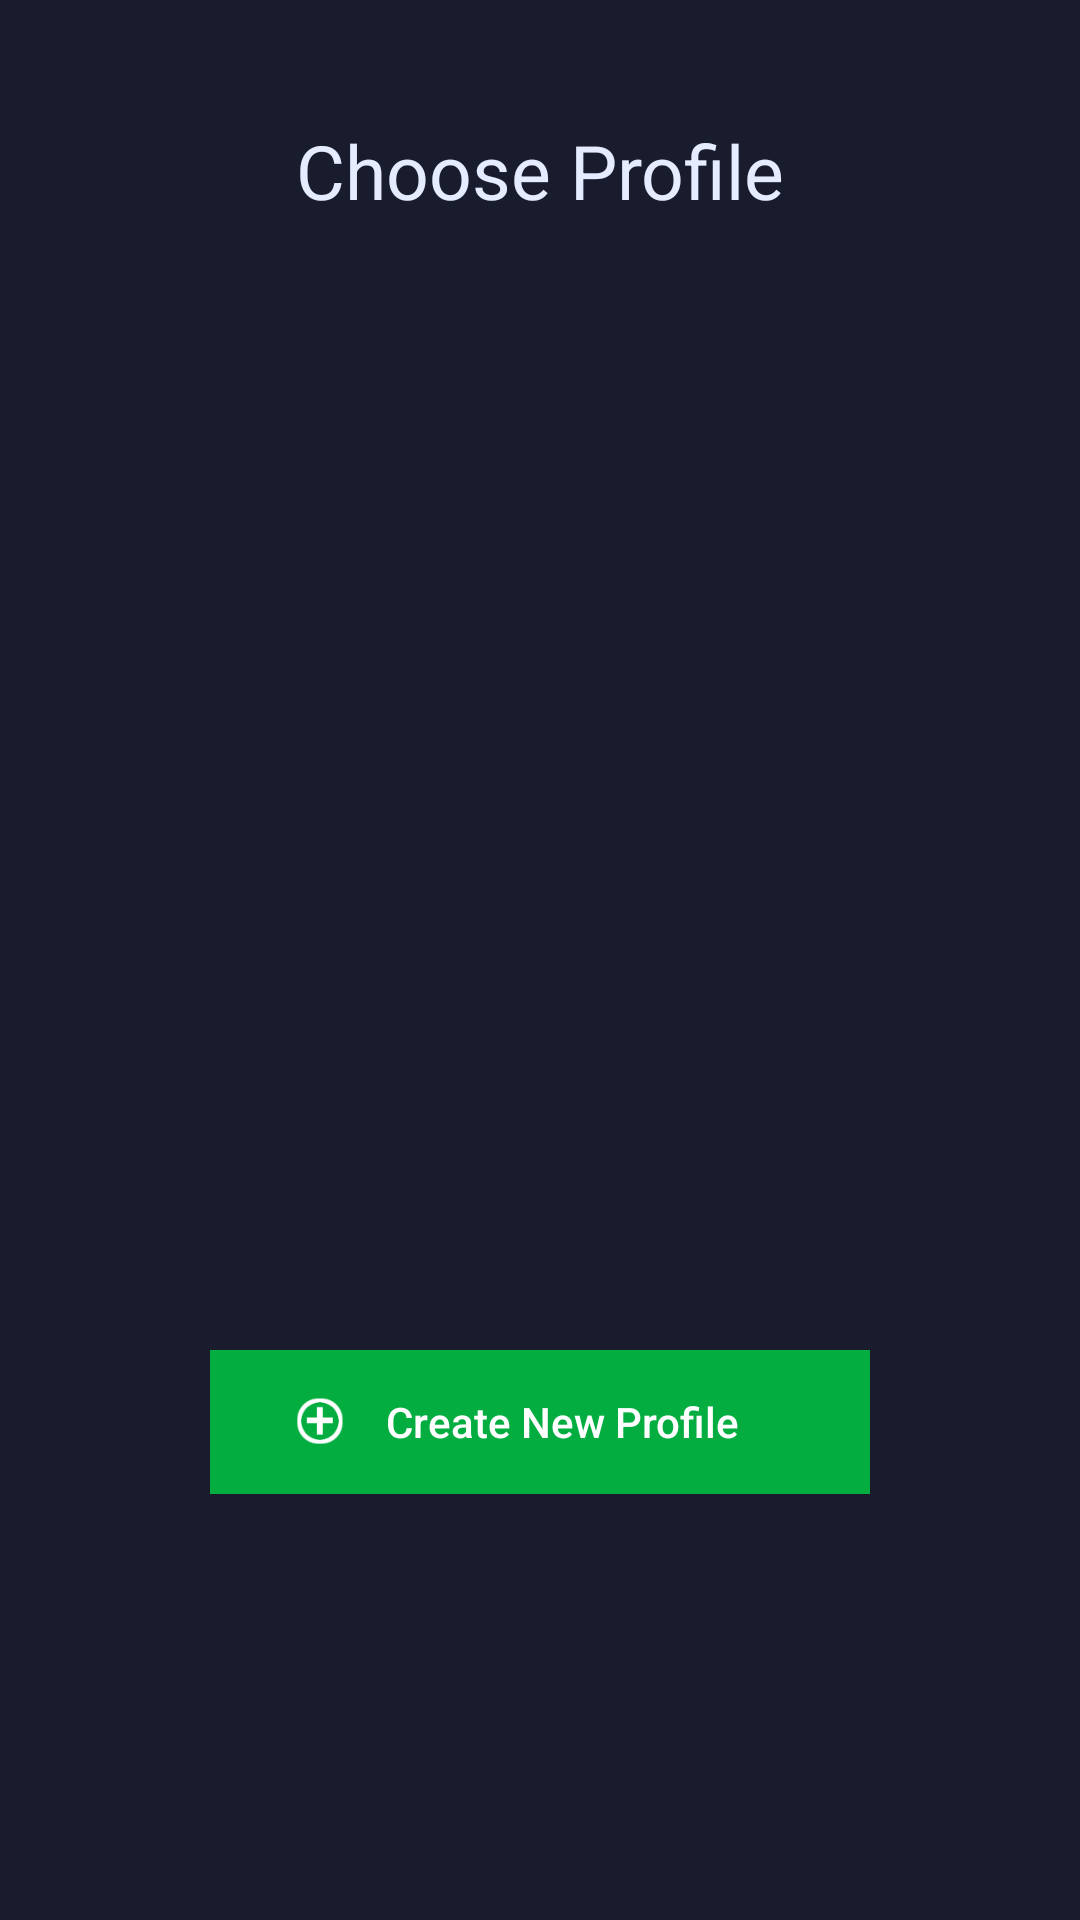

Icon bounding boxes for this 1080px x 1920px phone screenshot, format {"left": x1, "top": y1, "right": x2, "bottom": y2}:
plus: {"left": 297, "top": 1398, "right": 343, "bottom": 1444}
